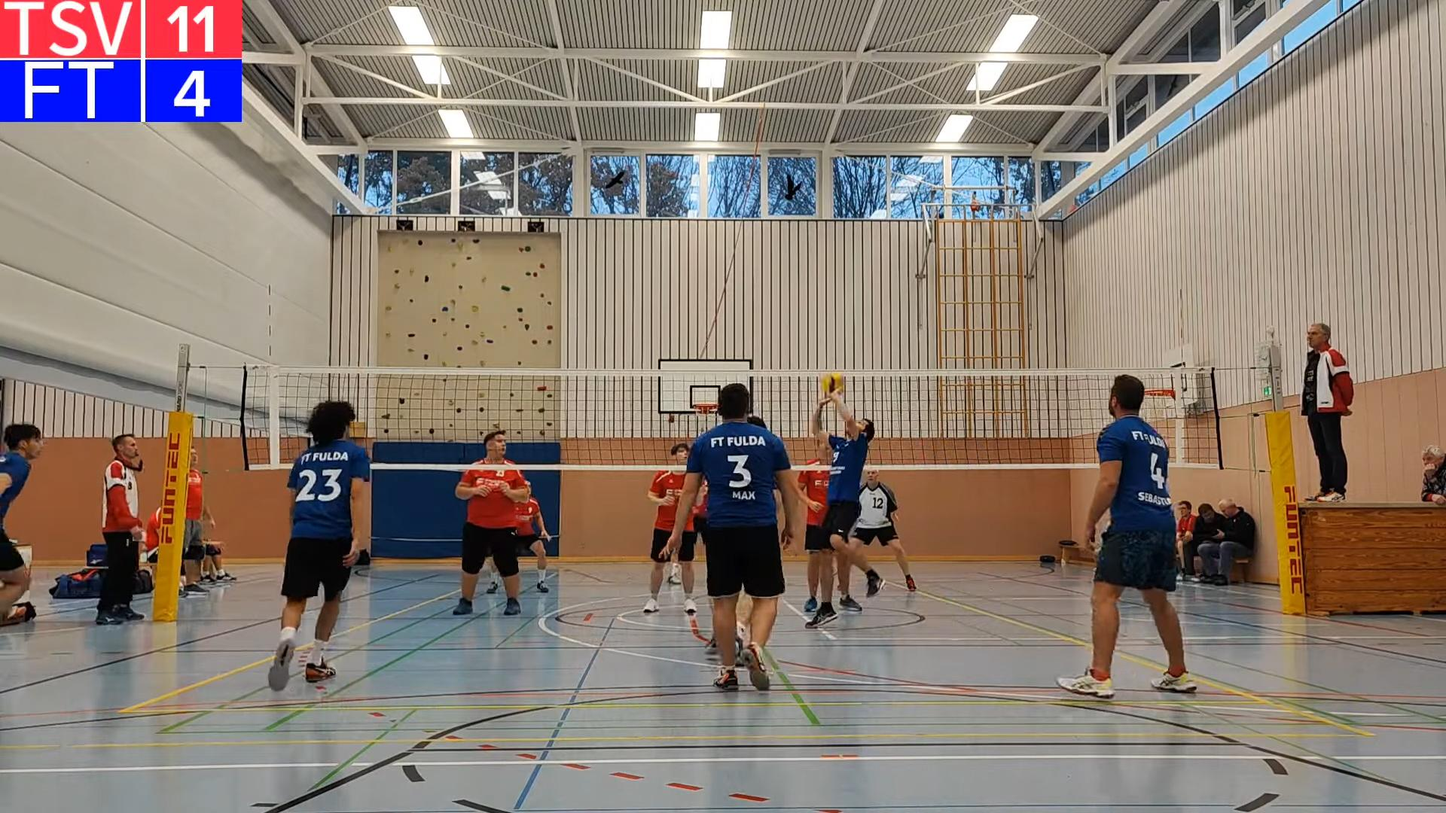alzata: (808, 383, 878, 629)
